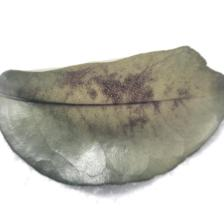canker: (45, 61, 181, 118)
